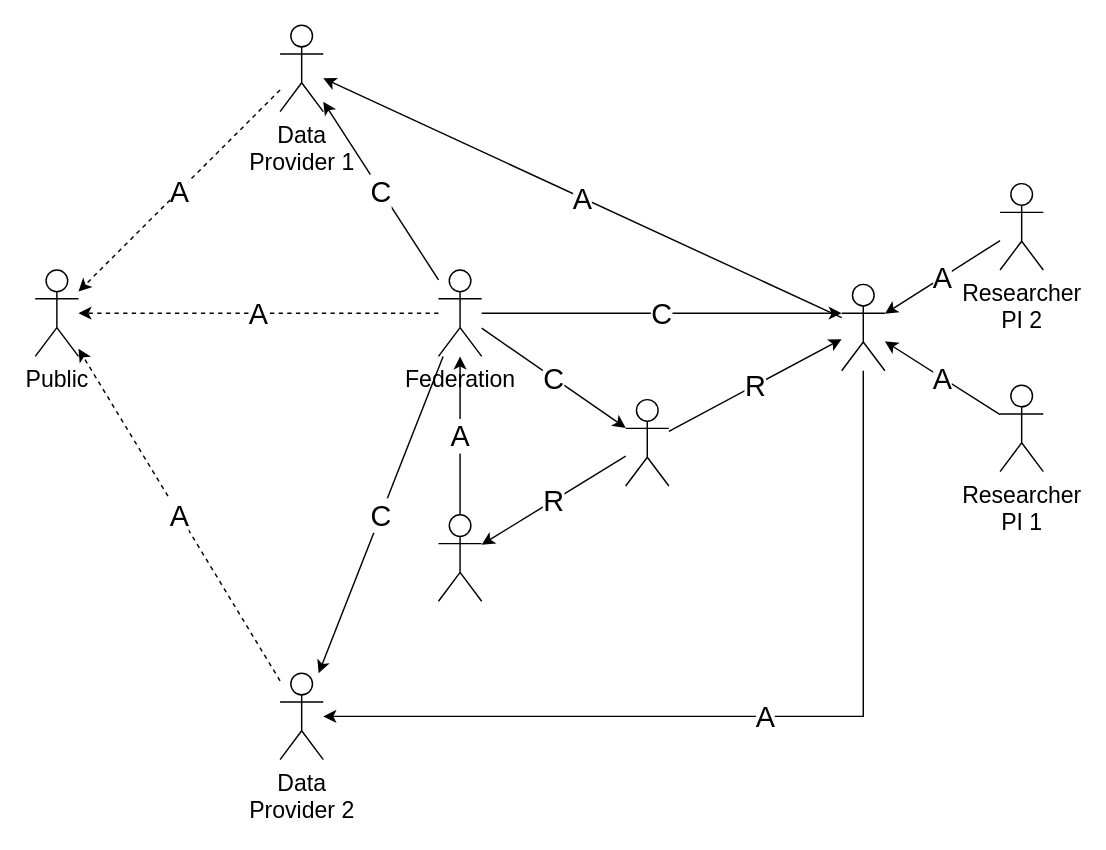
Some shapes in this 1106 by 850 pixel diagram are drawn without their labels. Each missing label, with the centre of its shape:
"Fed Svcs Operator" goes at pixel 459 557.
"Info Gov" goes at pixel 862 327.
"TRE Operator" goes at pixel 646 442.
